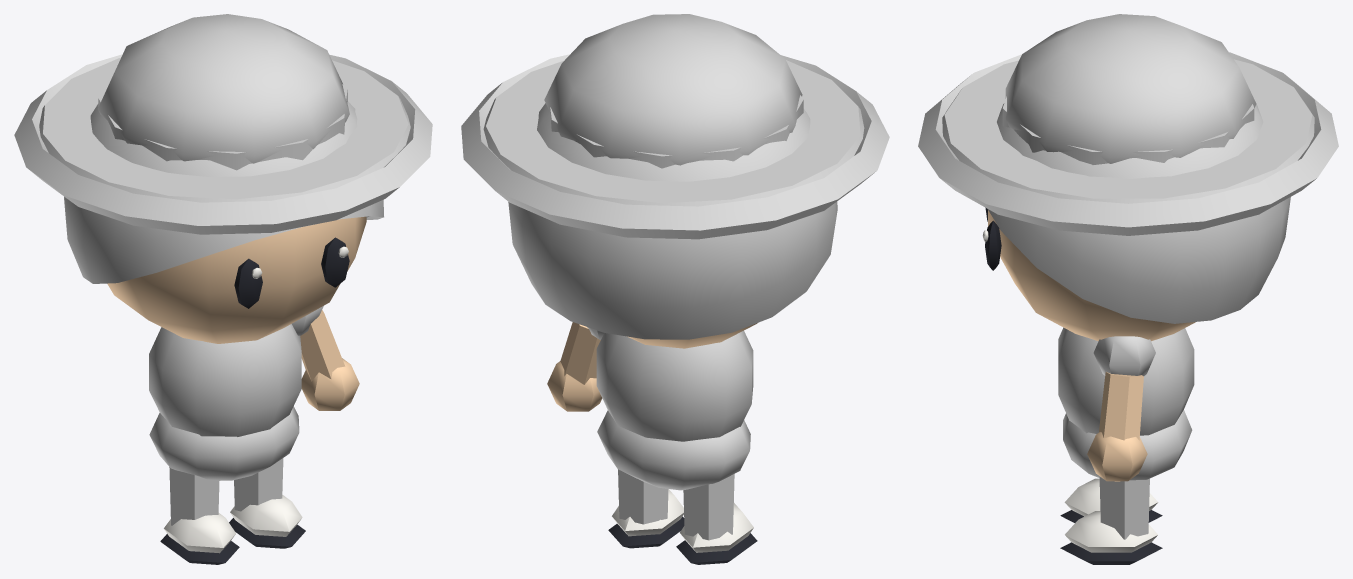
Rendered from guyh_straw_w.fbx.
The picture shows the model from 3 angles, left to right: view 1: azimuth 30°, elevation 25°; view 2: azimuth 150°, elevation 25°; view 3: azimuth 270°, elevation 25°; orthographic projection. The views are drawn at different scales.
Parts seen in each view (by area): view 1: guyh_straw_w; view 2: guyh_straw_w; view 3: guyh_straw_w.
Boxes of the visible parts, x1,y1,x2,y2 form: guyh_straw_w: (14,14,432,564); guyh_straw_w: (461,14,889,564); guyh_straw_w: (918,14,1338,564).
Bounding box in the file's own units: 0.5671 × 0.7636 × 0.5696.
